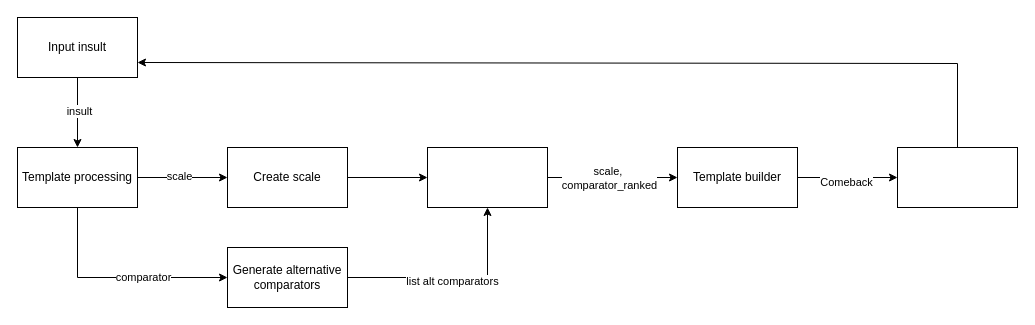
Some shapes in this 1035 by 325 pixel diagram are drawn without their labels. Each missing label, with the box of its shape:
Print comeback: (896, 146, 1018, 208)
Rank comparators based on scale: (426, 146, 548, 208)
